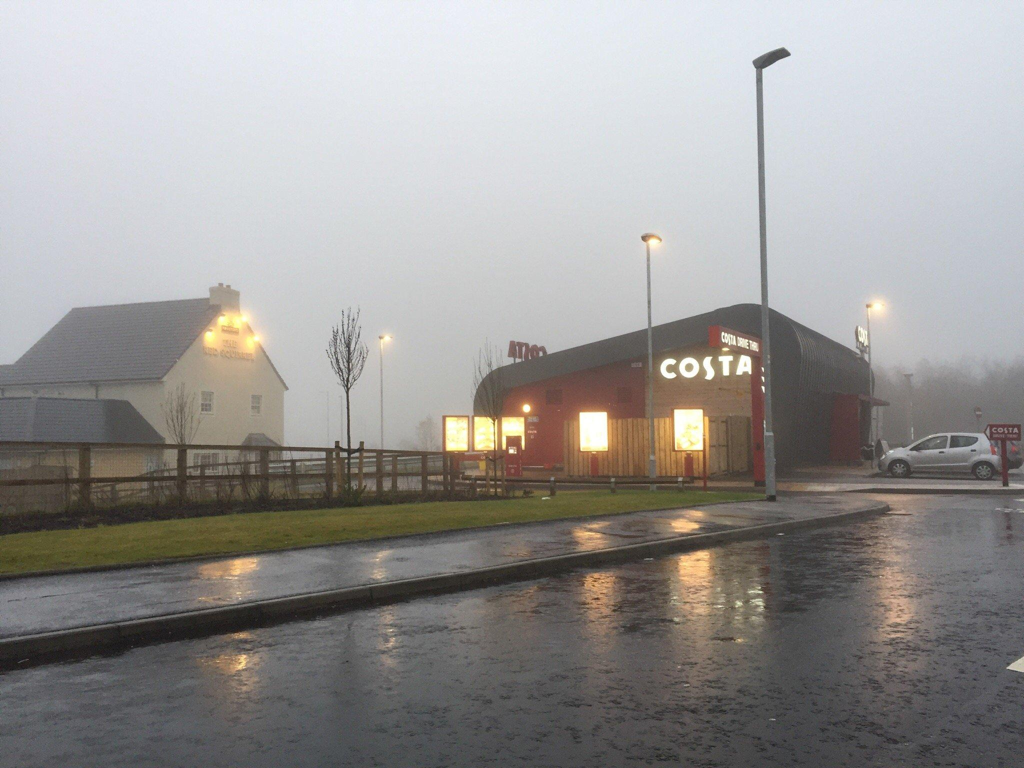bench: (457, 462, 558, 498), (455, 468, 510, 499), (473, 474, 544, 498), (499, 470, 556, 498), (506, 462, 557, 483), (456, 457, 496, 483), (455, 465, 493, 491), (521, 476, 562, 498), (508, 482, 555, 500), (456, 476, 495, 497), (608, 474, 656, 490), (470, 477, 504, 497)
bicycle: (508, 475, 557, 498), (856, 441, 880, 471)
boat: (982, 422, 1021, 475)
bus: (876, 430, 1007, 481), (984, 426, 1022, 484)
car: (875, 431, 1003, 480), (932, 430, 1022, 477), (866, 438, 927, 476), (983, 433, 1020, 482), (975, 452, 1023, 484), (983, 424, 1020, 458), (871, 439, 903, 474), (998, 444, 1020, 487), (971, 450, 1003, 479), (857, 441, 887, 470), (871, 434, 888, 473)
person: (990, 437, 1016, 485), (874, 437, 898, 476), (859, 439, 884, 473), (871, 434, 888, 473), (503, 442, 520, 477), (856, 437, 874, 470), (541, 464, 558, 497)
truck: (875, 431, 1003, 480), (932, 430, 1022, 477), (983, 429, 1021, 483), (982, 421, 1021, 453)
